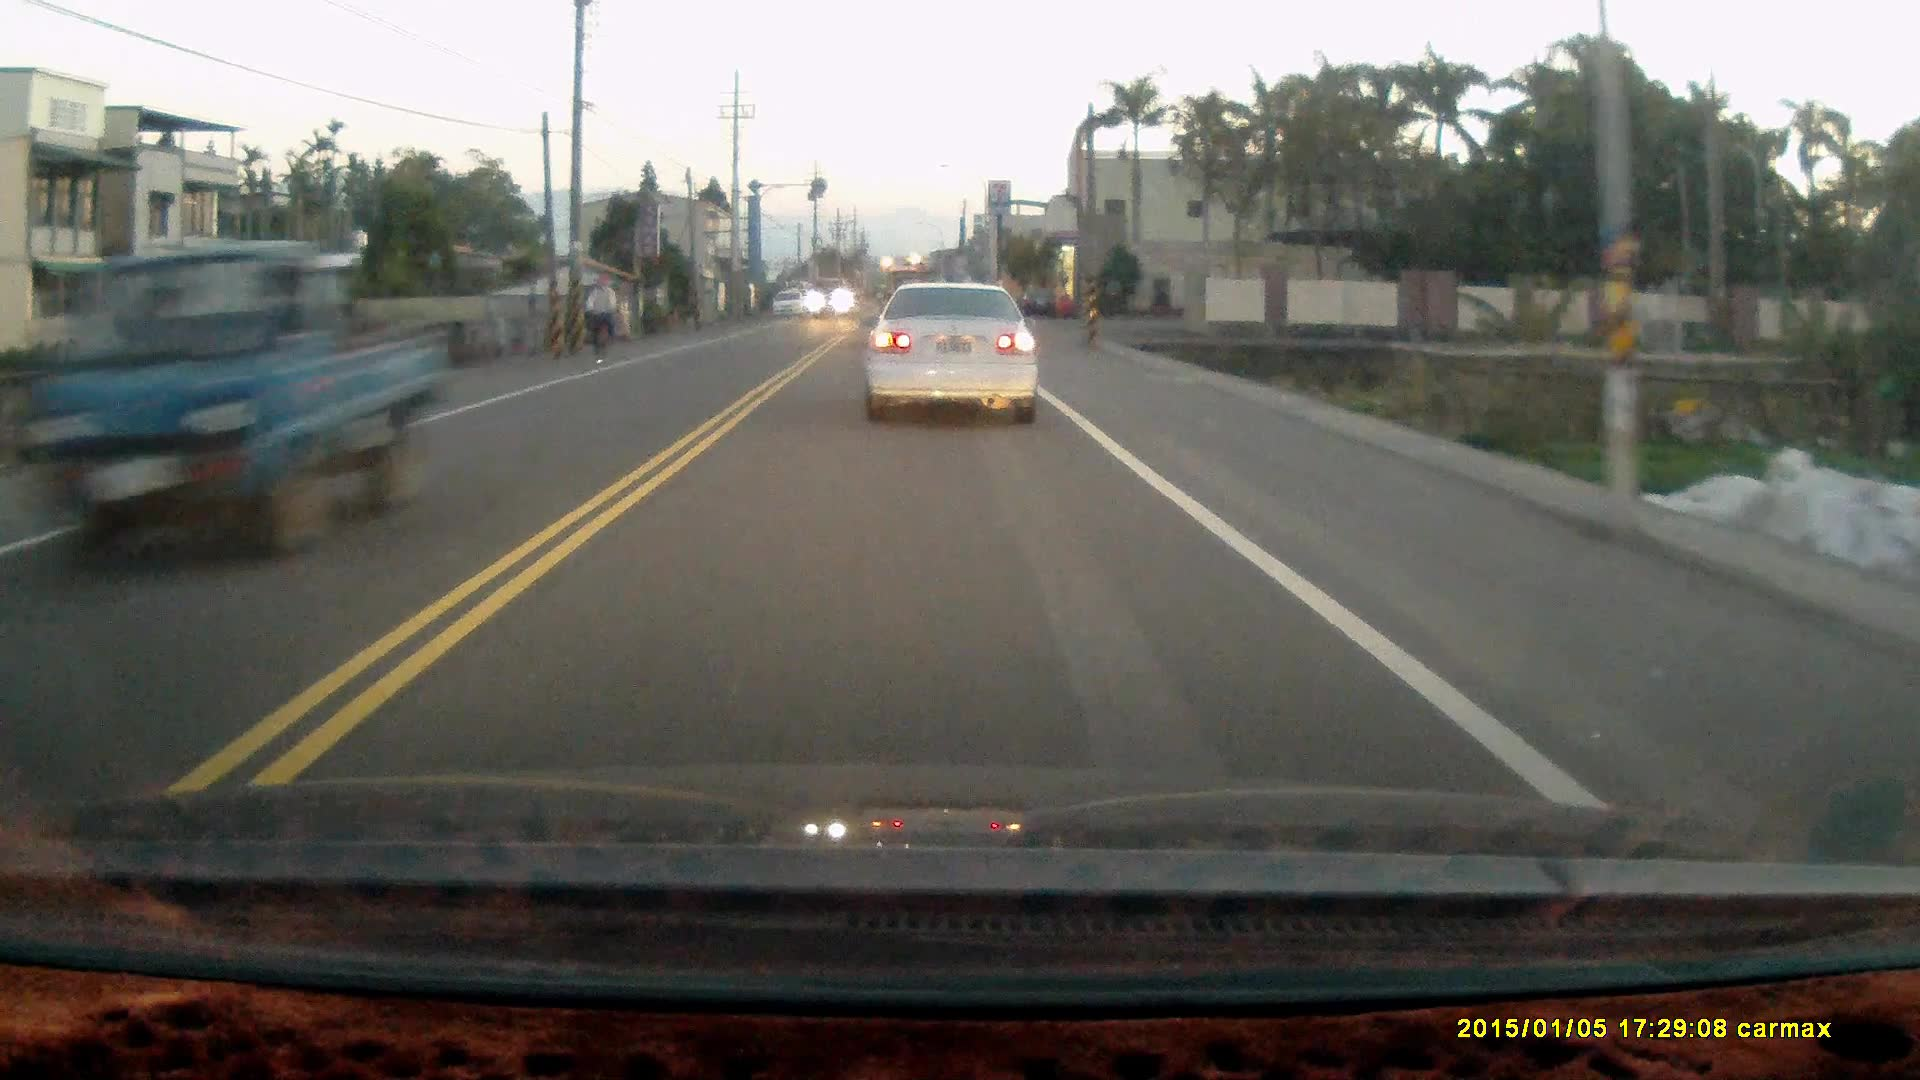rider: (582, 270, 618, 364)
vehicle: (26, 243, 432, 569), (862, 281, 1039, 423), (804, 276, 851, 320), (1019, 279, 1060, 314), (773, 291, 807, 319)
